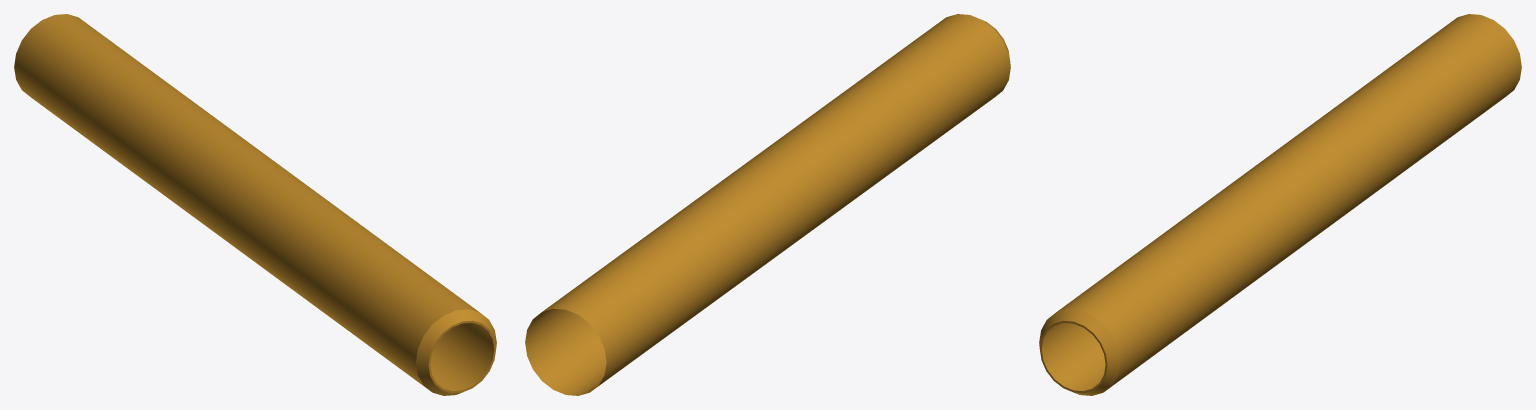
Rendered from MobileCrane_Hydraulic_01a_snaps005.fbx.
The picture shows the model from 3 angles, left to right: view 1: azimuth 30°, elevation 25°; view 2: azimuth 150°, elevation 25°; view 3: azimuth 330°, elevation 25°; orthographic projection.
Parts seen in each view (by area): view 1: b2; view 2: b2; view 3: b2.
Boxes of the visible parts, <box> form: b2: <box>14,14,496,395</box>; b2: <box>525,14,1010,395</box>; b2: <box>1039,14,1521,395</box>.
Bounding box in the file's own units: 34.89 × 35.4 × 304.
